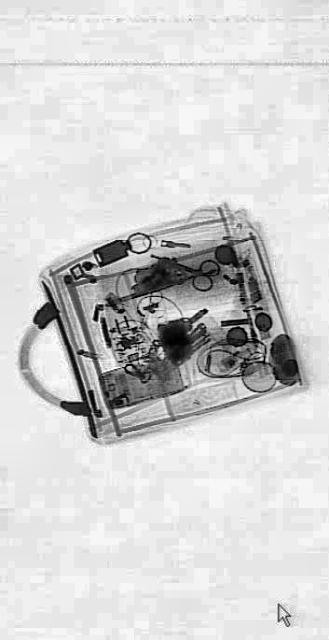Scissors: (160, 235, 220, 298)
